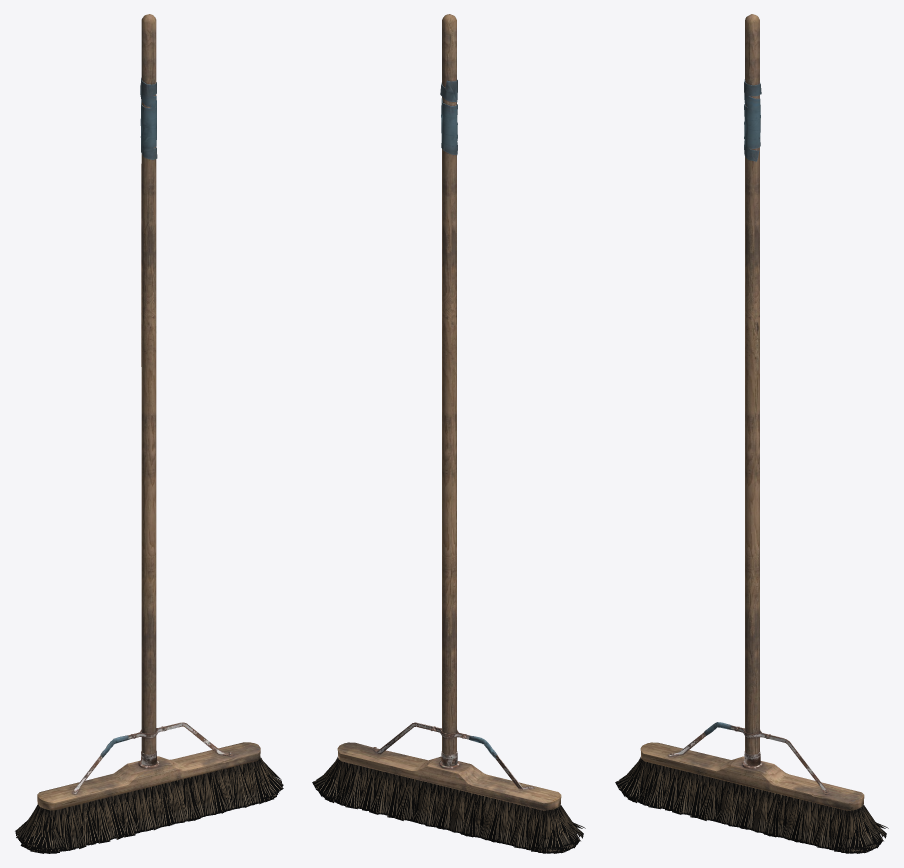
Rendered from wooden_broom.glb.
3 renders of one model, left to right at view 1: azimuth 30°, elevation 25°; view 2: azimuth 150°, elevation 25°; view 3: azimuth 330°, elevation 25°, orthographic.
Parts seen in each view (by area): view 1: wooden_broom_handle, wooden_broom_bristles; view 2: wooden_broom_handle, wooden_broom_bristles; view 3: wooden_broom_handle, wooden_broom_bristles.
Part boxes in pixels (x1,y1,x2,y2): wooden_broom_handle: (37, 14, 260, 810); wooden_broom_bristles: (15, 757, 283, 853); wooden_broom_handle: (337, 14, 561, 810); wooden_broom_bristles: (312, 757, 585, 853); wooden_broom_handle: (640, 14, 864, 810); wooden_broom_bristles: (615, 757, 888, 853).
Size of the model in its own units: 0.4902 by 1.45 by 0.1125.
Materials: 2 (2 with a texture image).
